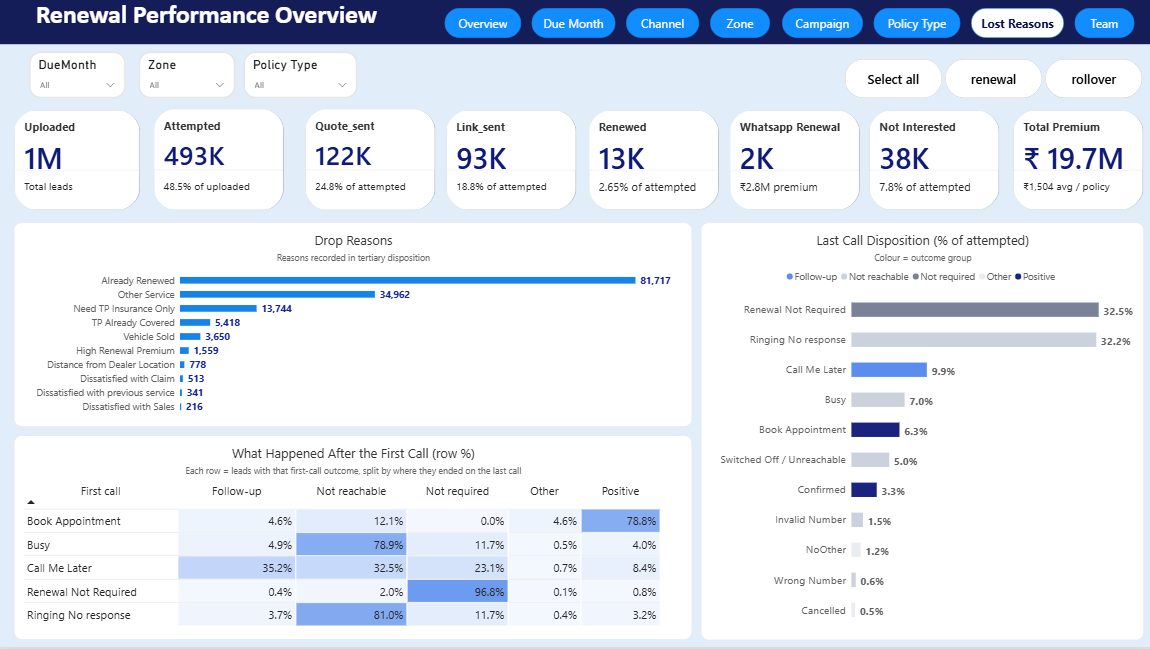

This screenshot's page, from the dashboard's own definition file:
{"tool":"powerbi","page":{"name":"Lost Reasons","canvas":[1920,1080],"ordinal":6},"visuals":[{"type":"textbox","box":[0,0,1920,75],"z":0},{"type":"shape","box":[742.5,13.7,128,50],"z":1000,"group":"g1"},{"type":"advancedSlicerVisual","fields":{"Values":["RAW DATA(JAN-SEPT).campignname"]},"box":[1410,100,497.5,65],"z":1000},{"type":"cardVisual","fields":{"Data":["CountNonNull(RAW DATA(JAN-SEPT).assigned_id)"]},"box":[24.4,184.4,210.3,167.5],"z":1000,"group":"g2"},{"type":"group","id":"g1","title":"Group 1","box":[742.5,12.5,1150,52.5],"z":2000},{"type":"shape","box":[888.4,13.7,140,50],"z":2000,"group":"g1"},{"type":"cardVisual","fields":{"Data":["RAW DATA(JAN-SEPT).Attempted"]},"box":[256.4,183,217.6,170.8],"z":2000,"group":"g2"},{"type":"shape","box":[1046.2,13.7,122,50],"z":3000,"group":"g1"},{"type":"group","id":"g2","title":"Group 2","box":[24.4,183,1883.5,170.8],"z":3000},{"type":"shape","box":[1186.1,13.7,100,50],"z":4000,"group":"g1"},{"type":"slicer","fields":{"Values":["RAW DATA(JAN-SEPT).DueMonth"]},"box":[48.8,87.8,161,78.1],"z":4000,"group":"g3"},{"type":"group","id":"g3","title":"Group 3","box":[48.8,87.8,549,78.1],"z":4000},{"type":"shape","box":[1303.9,13.7,135,50],"z":5000,"group":"g1"},{"type":"slicer","fields":{"Values":["RAW DATA(JAN-SEPT).dealerzone"]},"box":[231.8,87.8,161,78.1],"z":5000,"group":"g3"},{"type":"cardVisual","fields":{"Data":["RAW DATA(JAN-SEPT).Link_sent_count"]},"box":[744.8,185,217.9,167.5],"z":5000,"group":"g2"},{"type":"clusteredBarChart","title":"Drop Reasons","fields":{"Category":["RAW DATA(JAN-SEPT).tertiary_disposition"],"Y":["RAW DATA(JAN-SEPT).Uploaded"]},"box":[24,372,1130,340],"z":5000},{"type":"shape","box":[1456.8,13.7,145,50],"z":6000,"group":"g1"},{"type":"slicer","fields":{"Values":["RAW DATA(JAN-SEPT).renewal_type"]},"box":[407.5,87.8,190.3,78.1],"z":6000,"group":"g3"},{"type":"cardVisual","fields":{"Data":["RAW DATA(JAN-SEPT).Renewed"]},"box":[983,185,217.9,167.5],"z":6000,"group":"g2"},{"type":"pivotTable","title":"What Happened After the First Call (row %)","fields":{"Columns":["RAW DATA(JAN-SEPT).Outcome Group"],"Rows":["RAW DATA(JAN-SEPT).firstcalldisposition"],"Values":["RAW DATA(JAN-SEPT).Outcome Share"]},"box":[24,728,1130,340],"z":6000},{"type":"shape","box":[1619.6,13.7,155,50],"z":7000,"group":"g1"},{"type":"barChart","title":"Last Call Disposition (% of attempted)","fields":{"Category":["RAW DATA(JAN-SEPT).lastcalldisposition"],"Series":["RAW DATA(JAN-SEPT).Outcome Group"],"Y":["RAW DATA(JAN-SEPT).Outcome Share"]},"box":[1170,372,738,696],"z":7000},{"type":"shape","box":[1792.5,13.7,100,50],"z":8000,"group":"g1"},{"type":"cardVisual","fields":{"Data":["RAW DATA(JAN-SEPT).Whatsapp_renewal_count"]},"box":[1216.1,185,217.9,167.5],"z":10000,"group":"g2"},{"type":"cardVisual","fields":{"Data":["RAW DATA(JAN-SEPT).Not Interested"]},"box":[1449.3,185,217.9,167.5],"z":11000,"group":"g2"},{"type":"cardVisual","fields":{"Data":["RAW DATA(JAN-SEPT).Total Premium"]},"box":[1690,185,217.9,167.5],"z":12000,"group":"g2"},{"type":"cardVisual","fields":{"Data":["RAW DATA(JAN-SEPT).Quote_sent"]},"box":[508.6,183,217.6,170.8],"z":12009,"group":"g2"}]}

Visuals, with their boxes in screenshot pixels (x1, y1, x2, y2), scaled from the page's 1920x1080 canvas onto the 1150x649 screenshot:
textbox: <region>0, 0, 1149, 45</region>
shape: <region>445, 8, 521, 38</region>
advancedSlicerVisual - RAW DATA(JAN-SEPT).campignname: <region>845, 60, 1143, 99</region>
cardVisual - CountNonNull(RAW DATA(JAN-SEPT).assigned_id): <region>15, 111, 141, 211</region>
"Group 1" group: <region>445, 8, 1134, 39</region>
shape: <region>532, 8, 616, 38</region>
cardVisual - RAW DATA(JAN-SEPT).Attempted: <region>154, 110, 284, 213</region>
shape: <region>627, 8, 700, 38</region>
"Group 2" group: <region>15, 110, 1143, 213</region>
shape: <region>710, 8, 770, 38</region>
slicer - RAW DATA(JAN-SEPT).DueMonth: <region>29, 53, 126, 100</region>
"Group 3" group: <region>29, 53, 358, 100</region>
shape: <region>781, 8, 862, 38</region>
slicer - RAW DATA(JAN-SEPT).dealerzone: <region>139, 53, 235, 100</region>
cardVisual - RAW DATA(JAN-SEPT).Link_sent_count: <region>446, 111, 577, 212</region>
"Drop Reasons" clusteredBarChart: <region>14, 224, 691, 428</region>
shape: <region>873, 8, 959, 38</region>
slicer - RAW DATA(JAN-SEPT).renewal_type: <region>244, 53, 358, 100</region>
cardVisual - RAW DATA(JAN-SEPT).Renewed: <region>589, 111, 719, 212</region>
"What Happened After the First Call (row %)" pivotTable: <region>14, 437, 691, 642</region>
shape: <region>970, 8, 1063, 38</region>
"Last Call Disposition (% of attempted)" barChart: <region>701, 224, 1143, 642</region>
shape: <region>1074, 8, 1134, 38</region>
cardVisual - RAW DATA(JAN-SEPT).Whatsapp_renewal_count: <region>728, 111, 859, 212</region>
cardVisual - RAW DATA(JAN-SEPT).Not Interested: <region>868, 111, 999, 212</region>
cardVisual - RAW DATA(JAN-SEPT).Total Premium: <region>1012, 111, 1143, 212</region>
cardVisual - RAW DATA(JAN-SEPT).Quote_sent: <region>305, 110, 435, 213</region>
